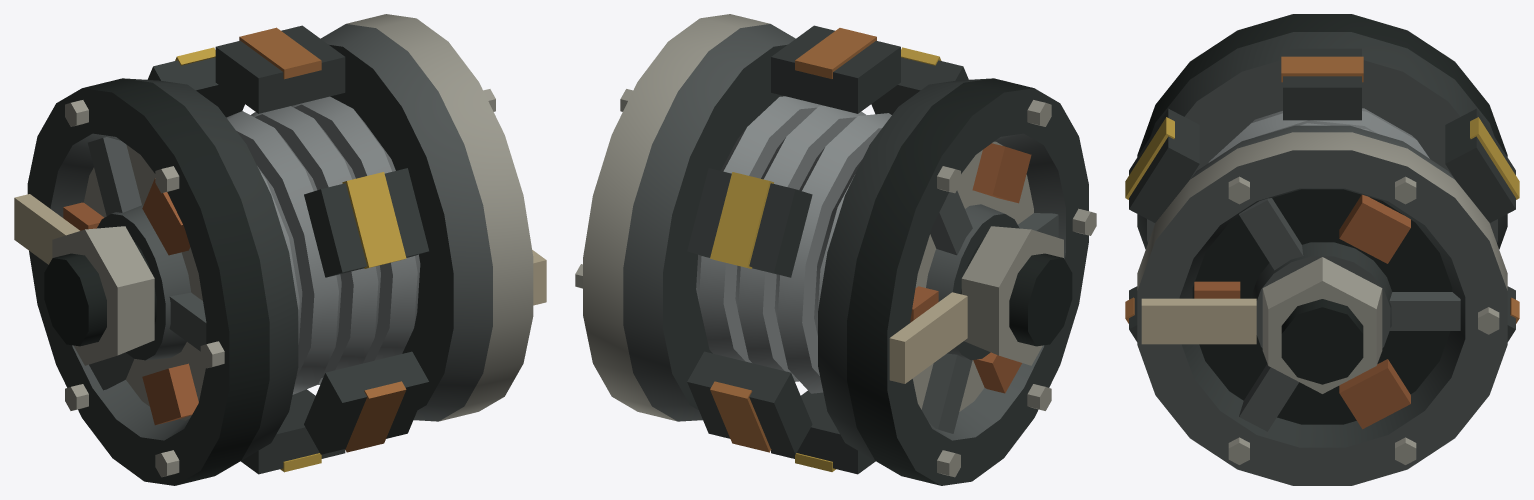
The model's file is grapple_mut_tether_slam_drive.glb.
3 views of the same model, side by side, from view 1: azimuth 30°, elevation 25°; view 2: azimuth 150°, elevation 25°; view 3: azimuth 270°, elevation 25° (orthographic). The views are drawn at different scales.
Parts seen in each view (by area): view 1: Drive; view 2: Drive; view 3: Drive.
Boxes of the visible parts, x1=… form: Drive: x1=14, y1=14, x2=546, y2=485; Drive: x1=575, y1=14, x2=1096, y2=485; Drive: x1=1125, y1=14, x2=1519, y2=485.
Bounding box in the file's own units: 0.276 × 0.248 × 0.2398.
